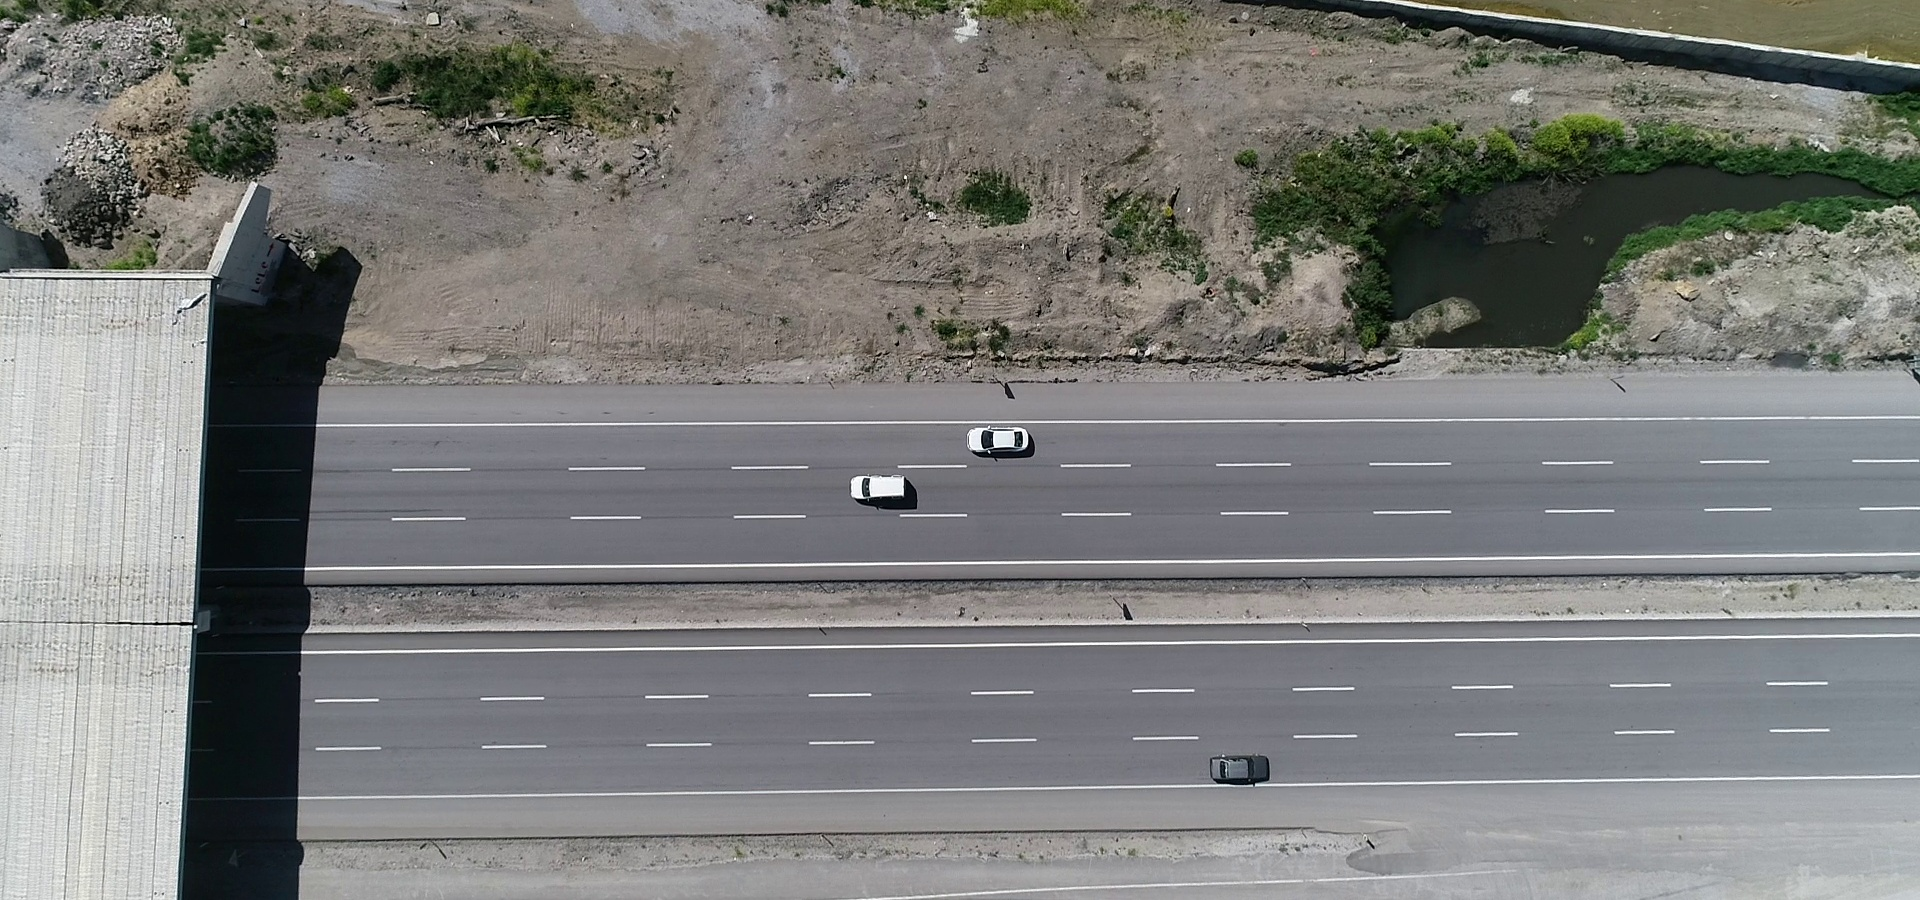araba: (966, 422, 1033, 456), (849, 469, 906, 504), (1212, 753, 1275, 782)
